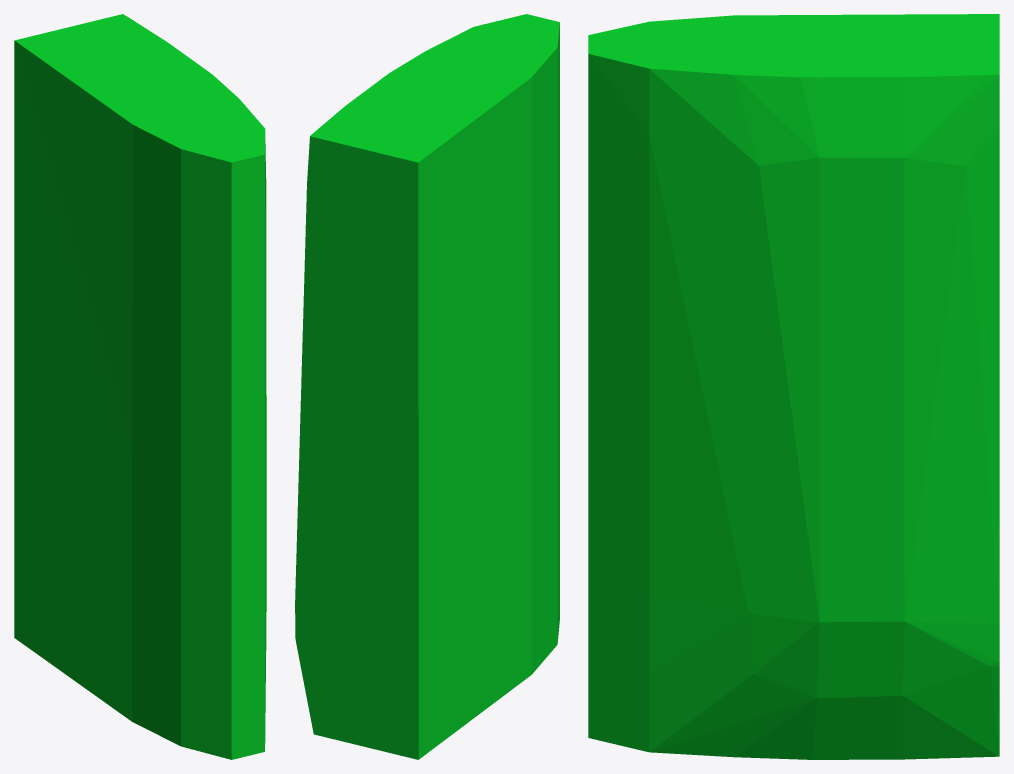
The picture shows the model from 3 angles, left to right: view 1: azimuth 30°, elevation 25°; view 2: azimuth 150°, elevation 25°; view 3: azimuth 270°, elevation 25°; orthographic projection. The views are drawn at different scales.
Bounding box in the file's own units: 1.97 × 7.81 × 4.25.
